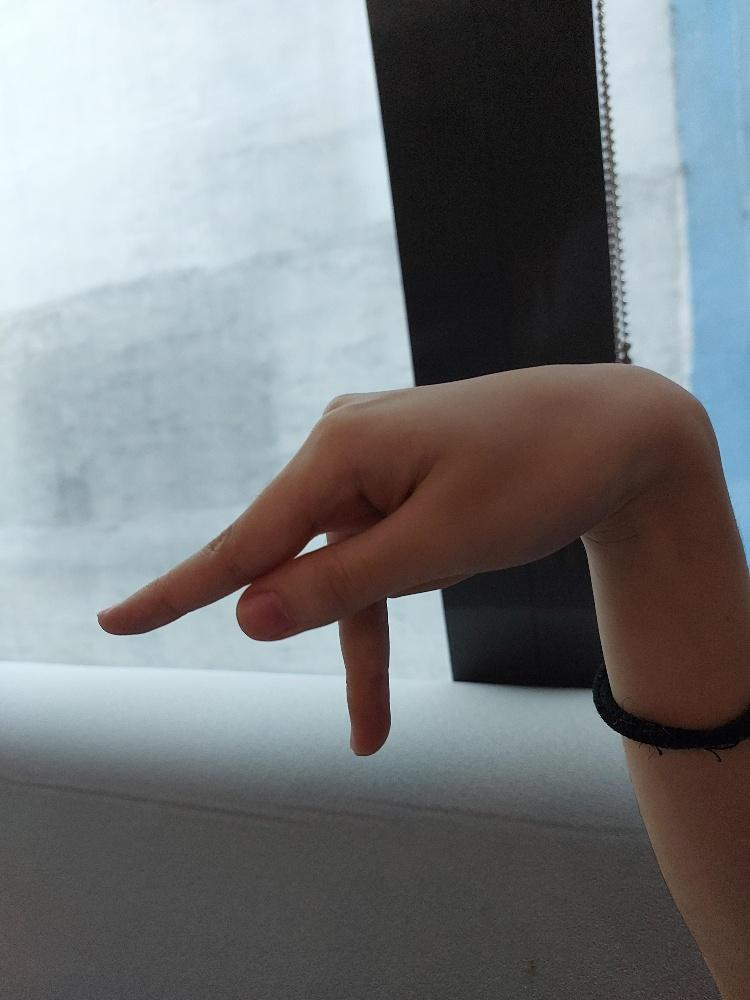p: (96, 360, 655, 757)
